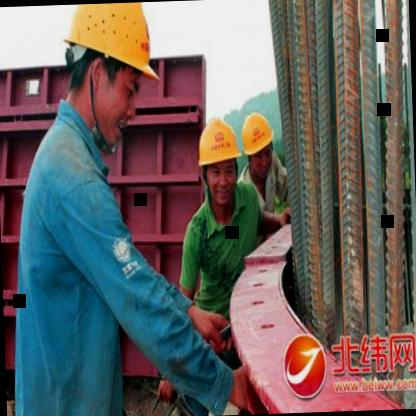helmet: (51, 2, 170, 152), (195, 106, 244, 208), (274, 327, 332, 412), (237, 106, 279, 182)
